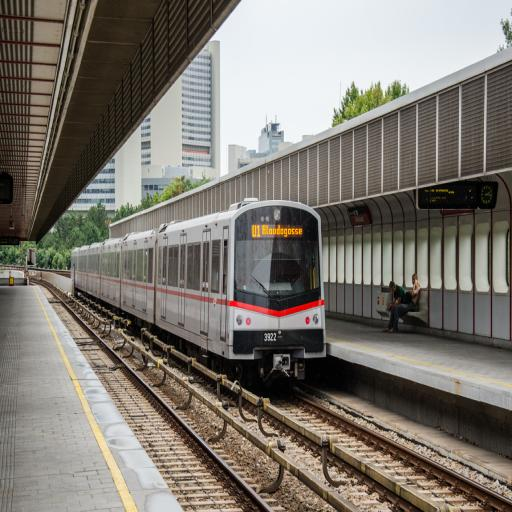V-Wagen: (70, 196, 328, 355)
